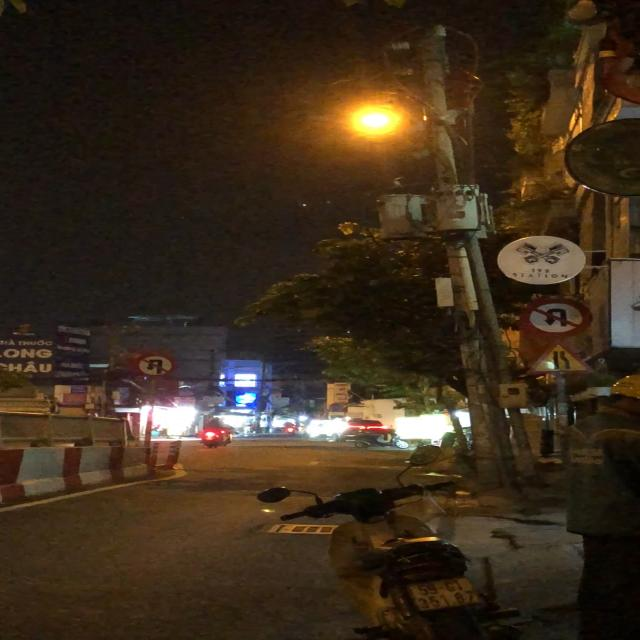Bien bao cam quay dau xe: (518, 296, 590, 337), (130, 350, 176, 380)
Bien bao duong bi thu hep: (518, 338, 599, 377)
